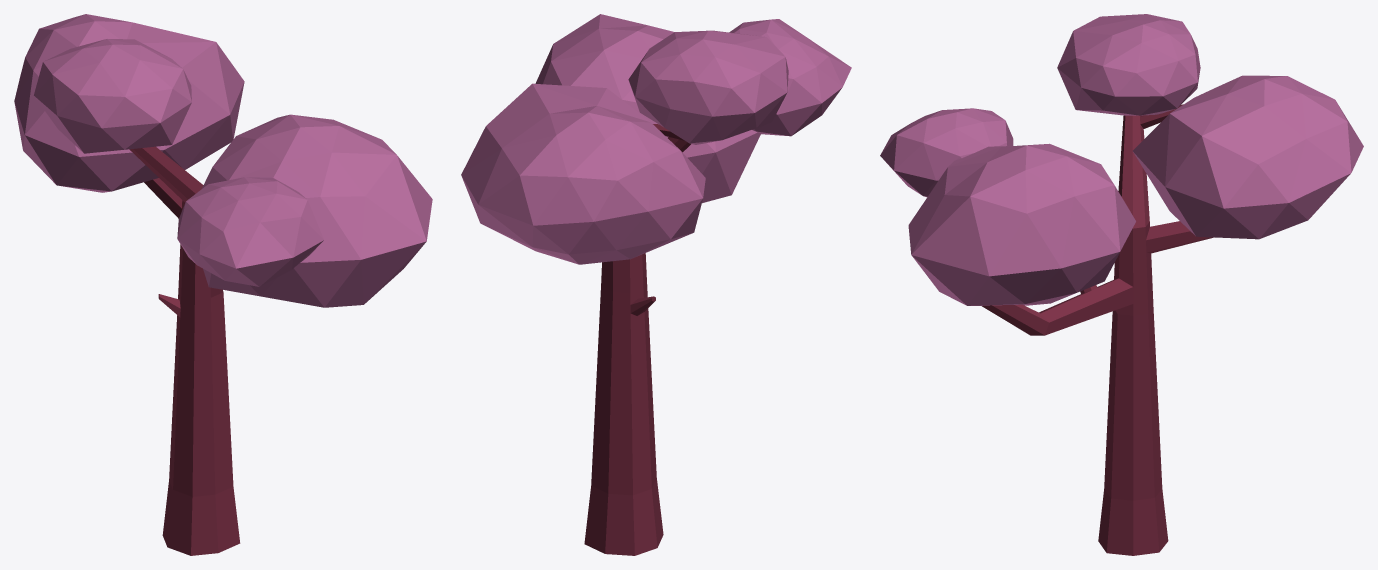
File: Mo_ForestTree02.fbx
The picture shows the model from 3 angles, left to right: view 1: azimuth 30°, elevation 25°; view 2: azimuth 150°, elevation 25°; view 3: azimuth 270°, elevation 25°; orthographic projection. The views are drawn at different scales.
Parts seen in each view (by area): view 1: Icosphere.001; view 2: Icosphere.001; view 3: Icosphere.001.
Part boxes in pixels (x1,y1,x2,y2): Icosphere.001: (14, 14, 432, 555); Icosphere.001: (461, 14, 851, 555); Icosphere.001: (880, 14, 1363, 555).
Bounding box in the file's own units: 1142 × 1818 × 1664.
